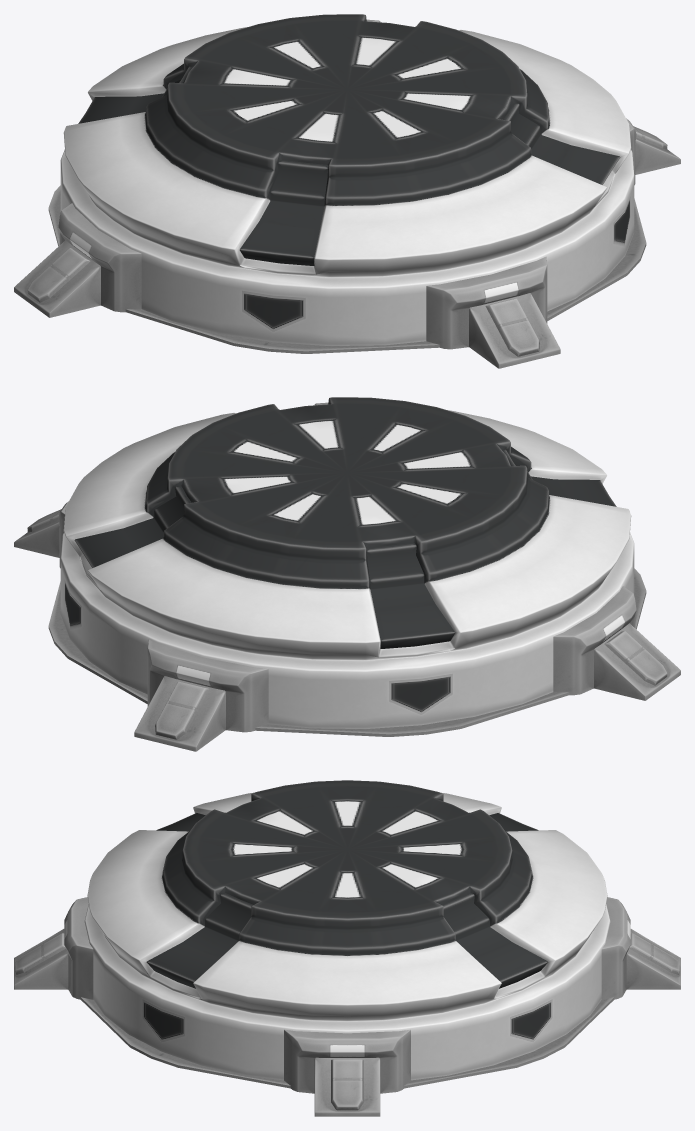
File: SM_LabHoloProjector01_Base.FBX
3 views of the same model, one above another, from view 1: azimuth 30°, elevation 25°; view 2: azimuth 150°, elevation 25°; view 3: azimuth 270°, elevation 25° (orthographic). The views are drawn at different scales.
Visible parts, largest first — view 1: SM_LabHoloProjector01_Base; view 2: SM_LabHoloProjector01_Base; view 3: SM_LabHoloProjector01_Base.
Boxes of the visible parts, box(x1,y1,x2,y2) form: SM_LabHoloProjector01_Base: box(14, 14, 680, 368); SM_LabHoloProjector01_Base: box(14, 397, 680, 751); SM_LabHoloProjector01_Base: box(14, 780, 680, 1116).
Size of what is drawn, in the model's own units: 144 by 144 by 30.17.
